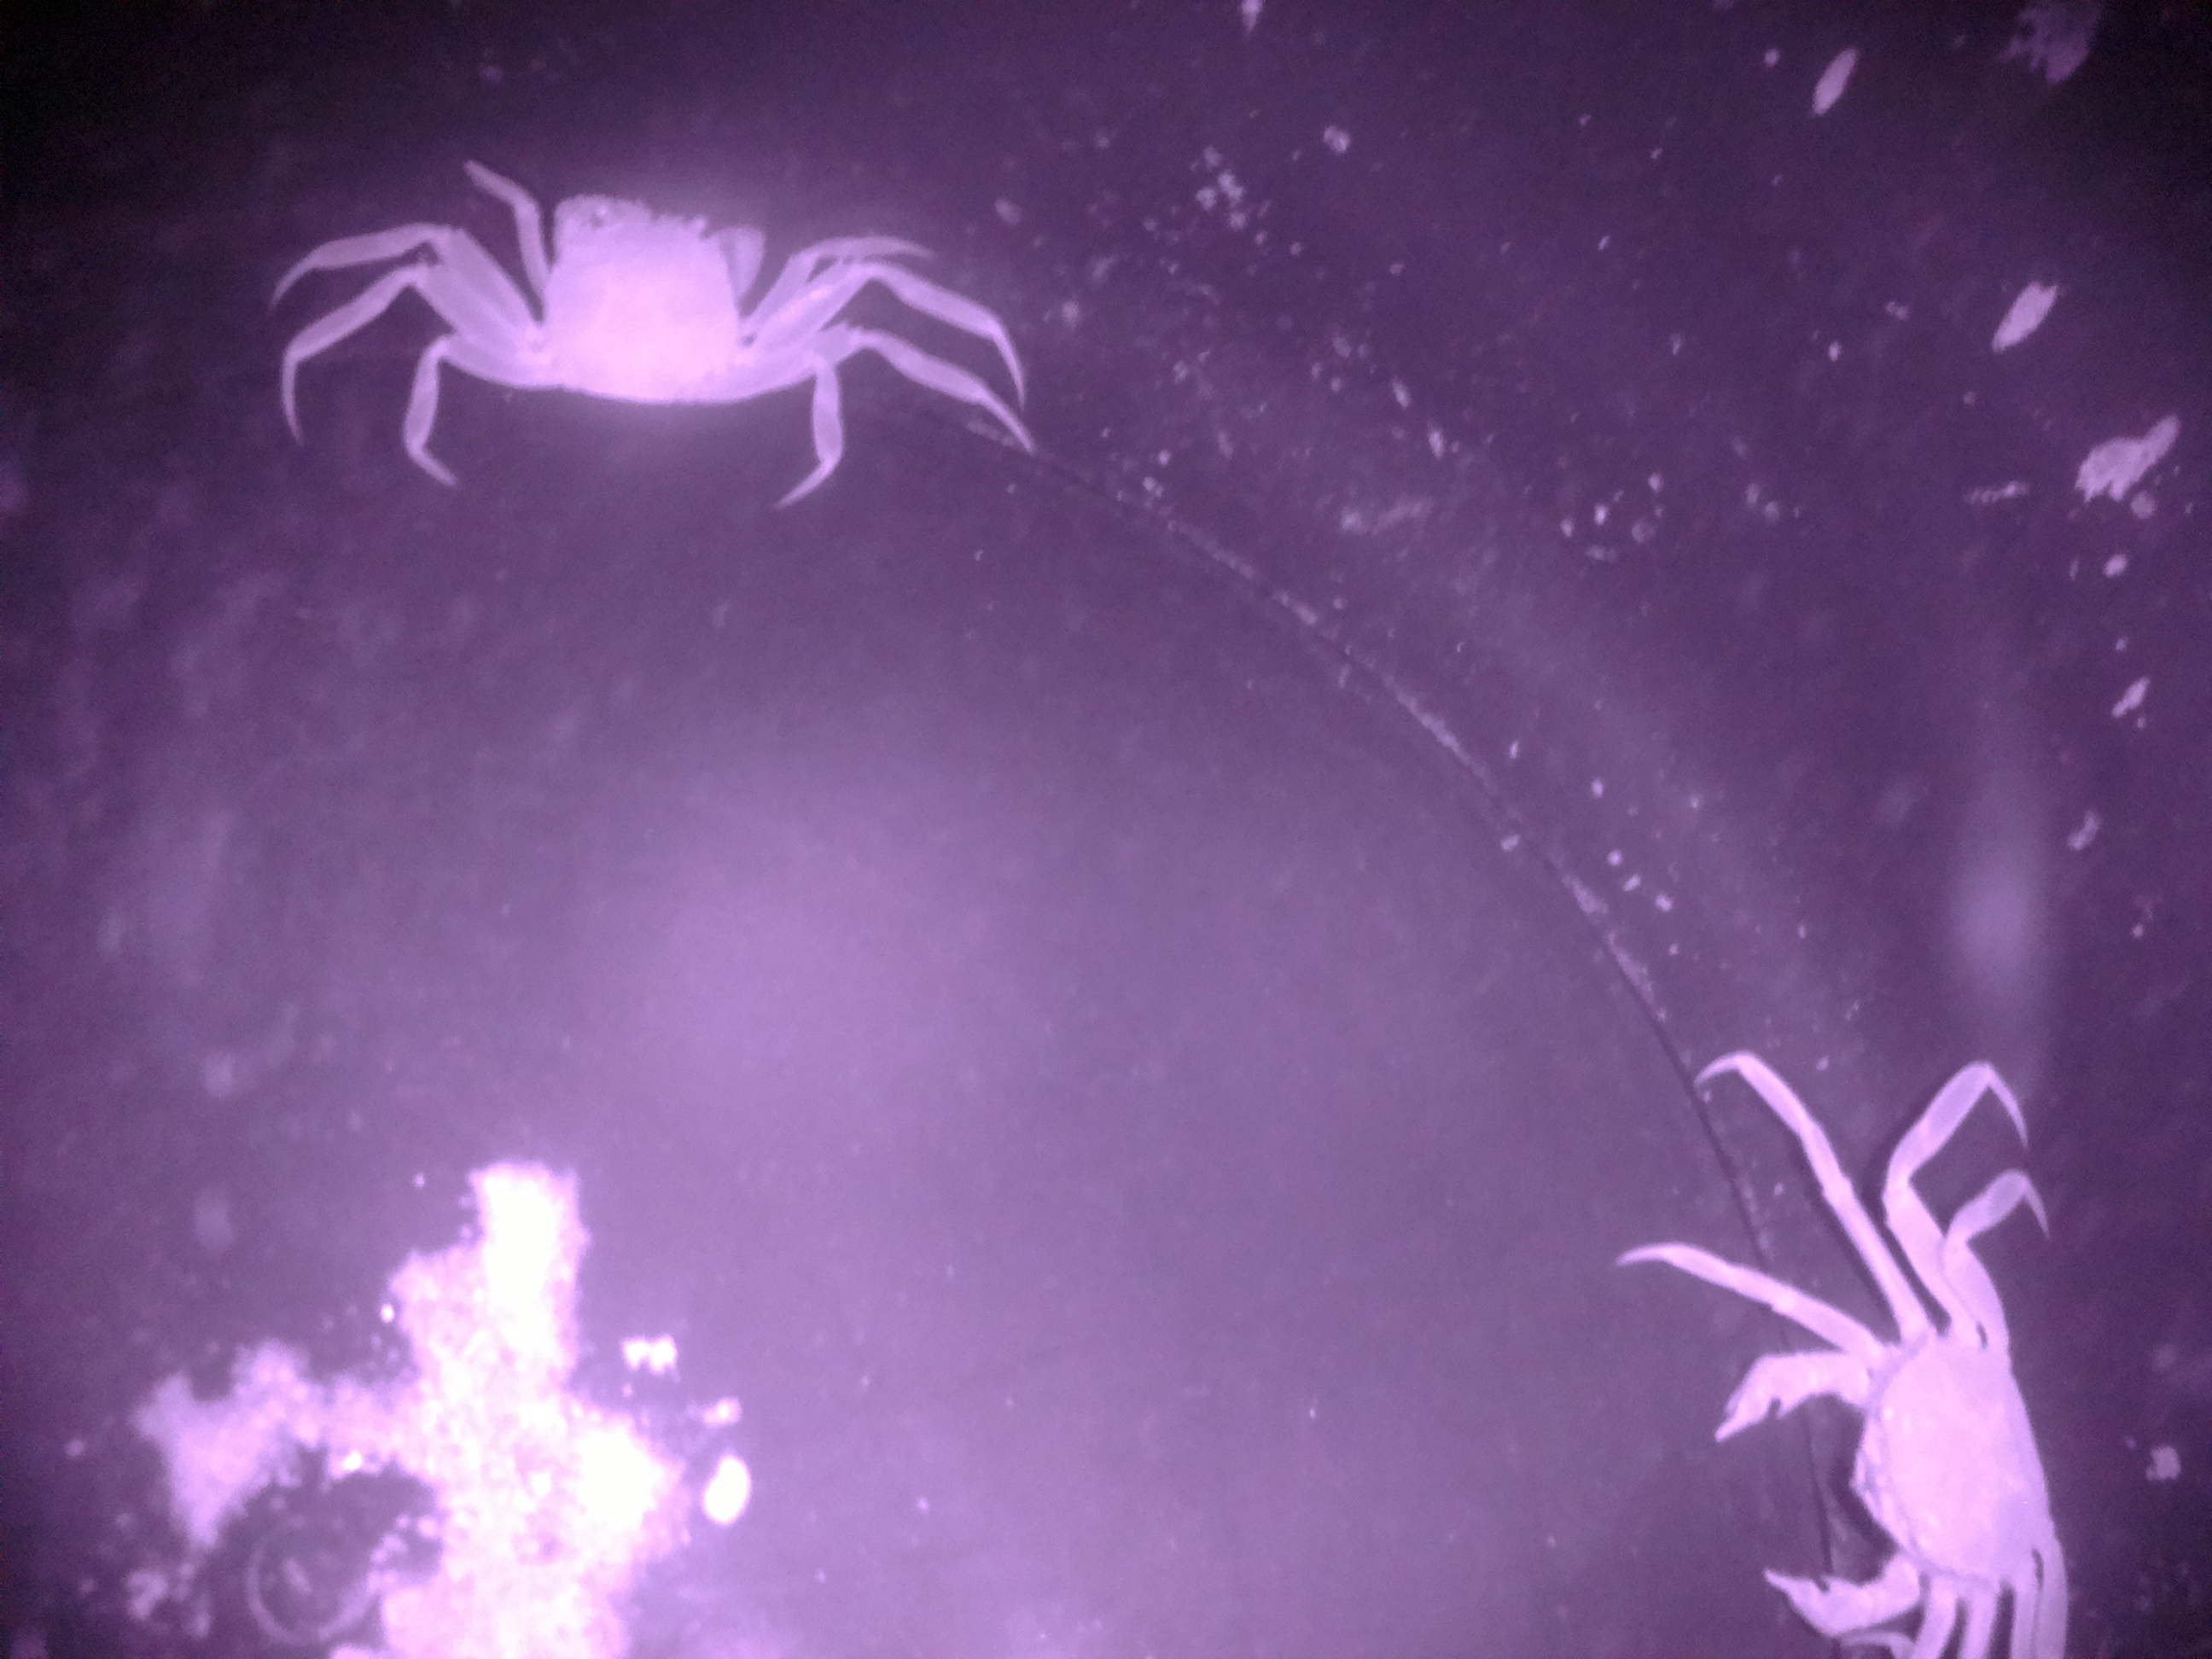Crab: (247, 122, 1054, 544), (1655, 1129, 2102, 1659)
